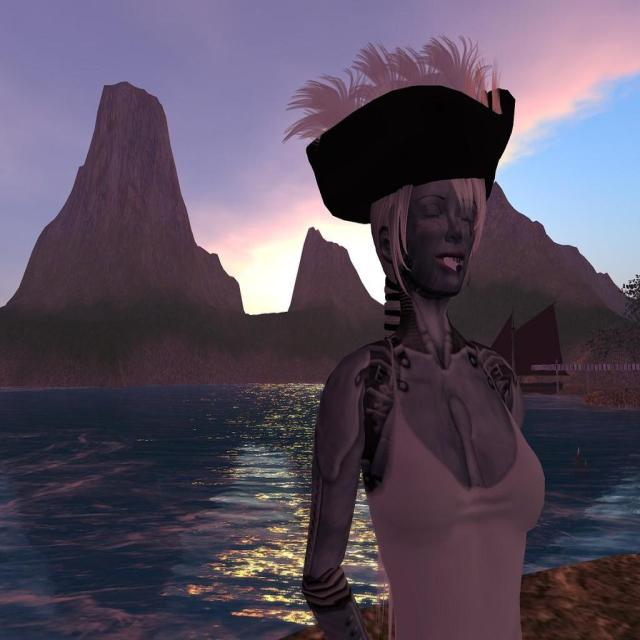Hat: (280, 30, 516, 226)
